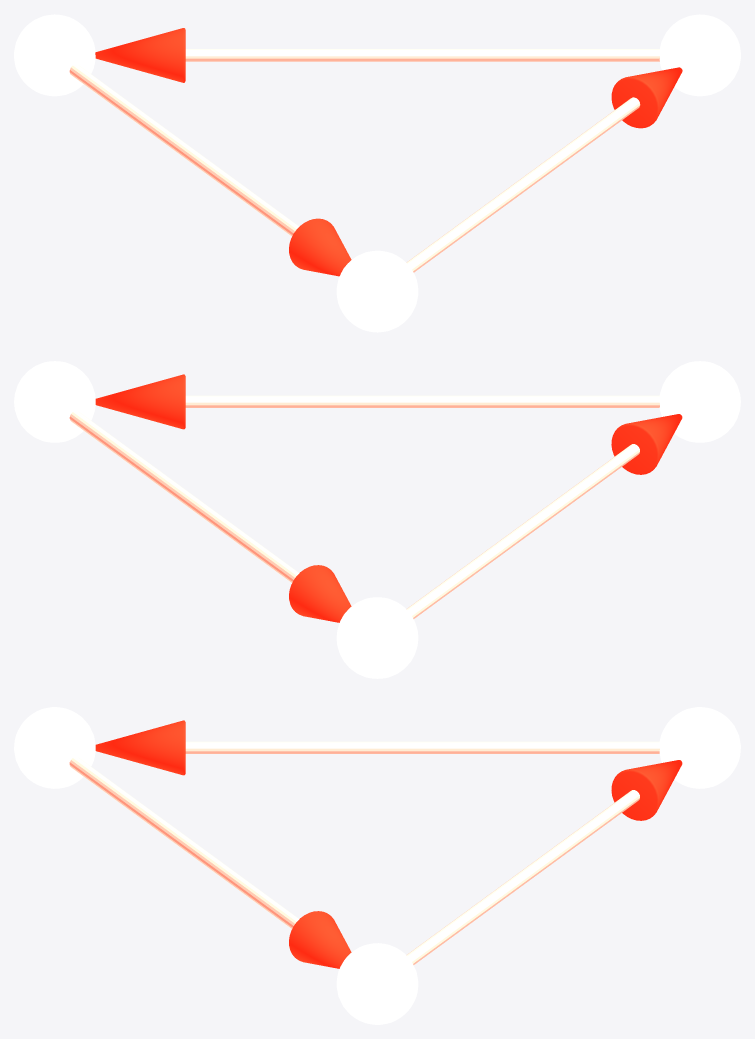
3 renders of one model, top to bottom at view 1: azimuth 30°, elevation 25°; view 2: azimuth 150°, elevation 25°; view 3: azimuth 270°, elevation 25°, orthographic.
Visible parts, largest first — view 1: Gamma.0000, Sphere.0002, Sphere.0000, Sphere.0001, Gamma.0002, Gamma.0001, Alpha.0000, Alpha.0001, Alpha.0002; view 2: Gamma.0002, Sphere.0001, Sphere.0002, Sphere.0000, Gamma.0001, Gamma.0000, Alpha.0002, Alpha.0000, Alpha.0001; view 3: Gamma.0001, Sphere.0000, Sphere.0001, Sphere.0002, Gamma.0000, Gamma.0002, Alpha.0001, Alpha.0002, Alpha.0000.
Part boxes in pixels (x1=…): Gamma.0000: x1=185, y1=49, x2=659, y2=61; Sphere.0002: x1=336, y1=250, x2=418, y2=332; Sphere.0000: x1=659, y1=14, x2=740, y2=96; Sphere.0001: x1=14, y1=14, x2=95, y2=96; Gamma.0002: x1=406, y1=97, x2=640, y2=272; Gamma.0001: x1=69, y1=64, x2=299, y2=236; Alpha.0000: x1=95, y1=28, x2=185, y2=82; Alpha.0001: x1=289, y1=218, x2=351, y2=276; Alpha.0002: x1=611, y1=67, x2=682, y2=128; Gamma.0002: x1=185, y1=395, x2=659, y2=407; Sphere.0001: x1=336, y1=597, x2=418, y2=678; Sphere.0002: x1=659, y1=361, x2=740, y2=442; Sphere.0000: x1=14, y1=361, x2=95, y2=442; Gamma.0001: x1=406, y1=444, x2=639, y2=618; Gamma.0000: x1=69, y1=411, x2=299, y2=582; Alpha.0002: x1=95, y1=374, x2=185, y2=429; Alpha.0000: x1=289, y1=565, x2=351, y2=622; Alpha.0001: x1=611, y1=414, x2=682, y2=474; Gamma.0001: x1=185, y1=741, x2=659, y2=753; Sphere.0000: x1=336, y1=943, x2=418, y2=1024; Sphere.0001: x1=659, y1=707, x2=740, y2=788; Sphere.0002: x1=14, y1=707, x2=95, y2=788; Gamma.0000: x1=406, y1=790, x2=639, y2=964; Gamma.0002: x1=69, y1=757, x2=299, y2=928; Alpha.0001: x1=95, y1=720, x2=185, y2=775; Alpha.0002: x1=289, y1=911, x2=351, y2=968; Alpha.0000: x1=611, y1=760, x2=682, y2=820.
Bounding box in the file's own units: 1.01 × 0.1296 × 1.15.
